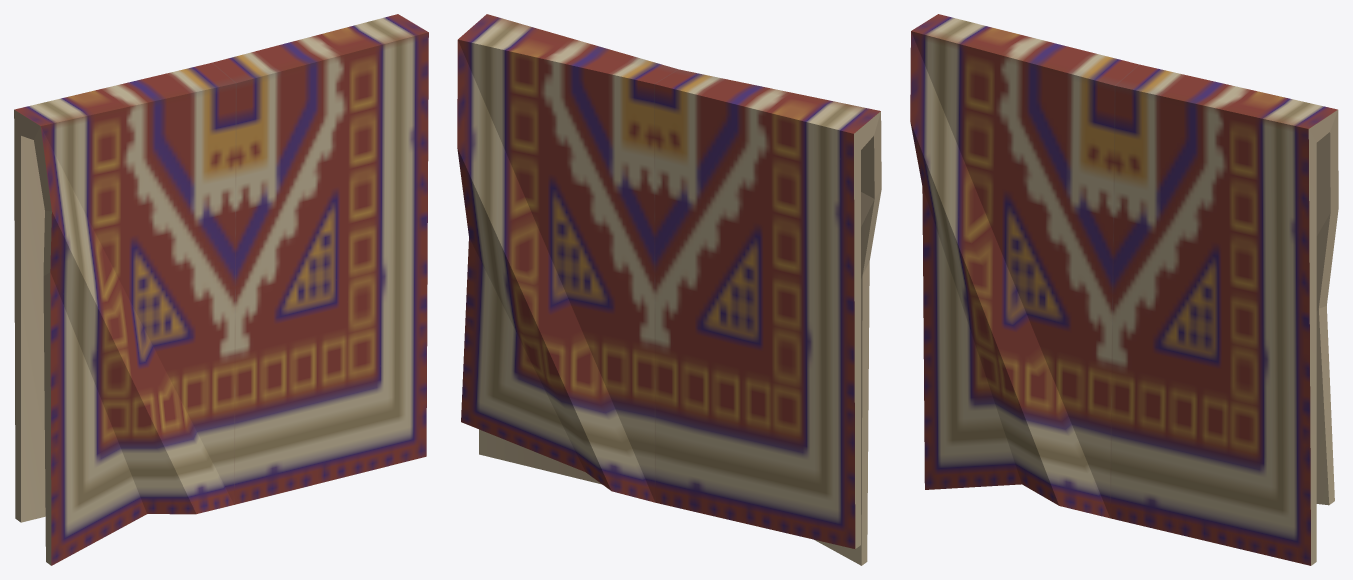
The model's file is SM_Prop_Rug_Hanging_03.glb.
3 renders of one model, left to right at view 1: azimuth 30°, elevation 25°; view 2: azimuth 150°, elevation 25°; view 3: azimuth 330°, elevation 25°, orthographic. The views are drawn at different scales.
Parts seen in each view (by area): view 1: SM_Prop_Rug_Hanging_03; view 2: SM_Prop_Rug_Hanging_03; view 3: SM_Prop_Rug_Hanging_03.
Part boxes in pixels (x1=…): SM_Prop_Rug_Hanging_03: x1=14, y1=14, x2=428, y2=565; SM_Prop_Rug_Hanging_03: x1=457, y1=14, x2=881, y2=565; SM_Prop_Rug_Hanging_03: x1=910, y1=14, x2=1338, y2=565.
Size of the model in its own units: 0.9125 by 0.9993 by 0.1628.
Materials: 1 (1 with a texture image).
